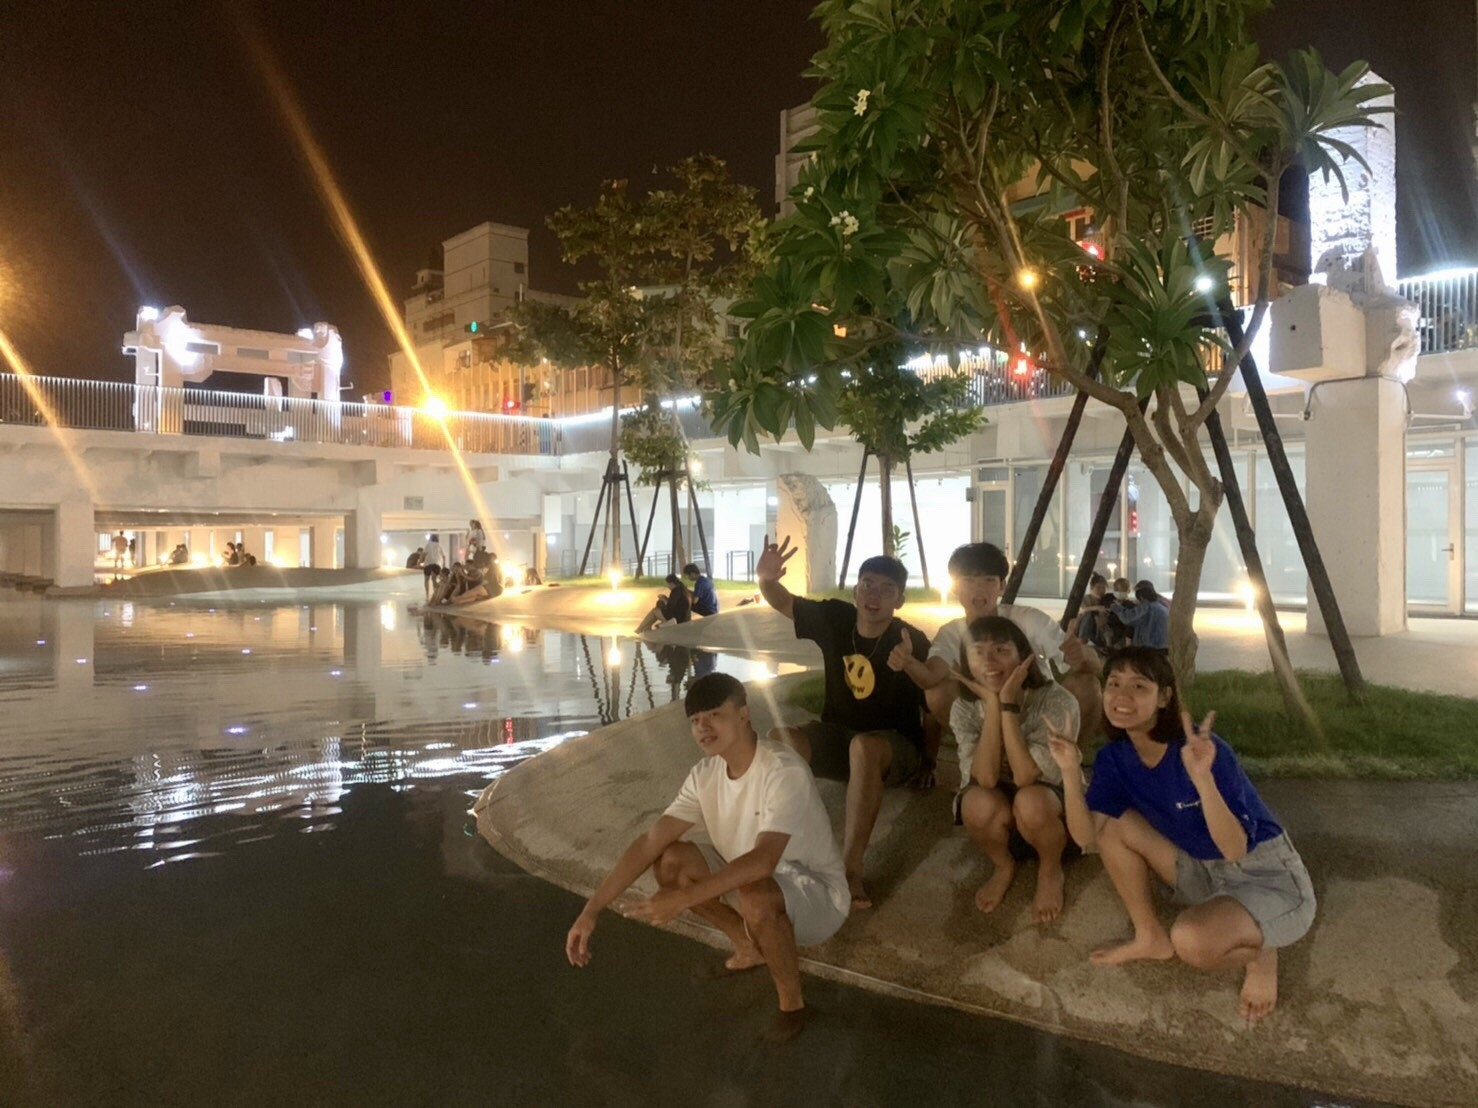people: (1094, 648, 1323, 1025), (658, 669, 831, 1021), (944, 625, 1090, 934), (931, 544, 1090, 769), (817, 557, 921, 902), (633, 575, 694, 634), (1127, 575, 1173, 652), (1081, 563, 1121, 644), (1102, 580, 1133, 659), (681, 563, 723, 615), (536, 413, 558, 463), (483, 559, 502, 607), (427, 536, 442, 594), (215, 544, 254, 565), (465, 557, 483, 590), (440, 567, 452, 613), (471, 519, 486, 552), (452, 565, 467, 596)
